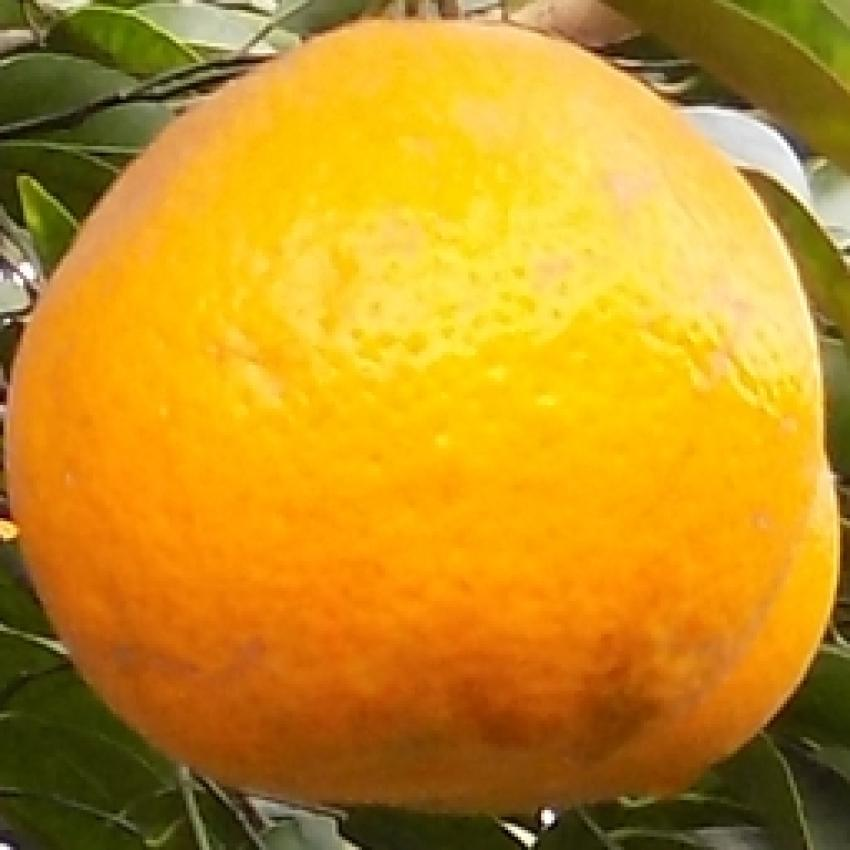Mal estado: (0, 7, 846, 824)
